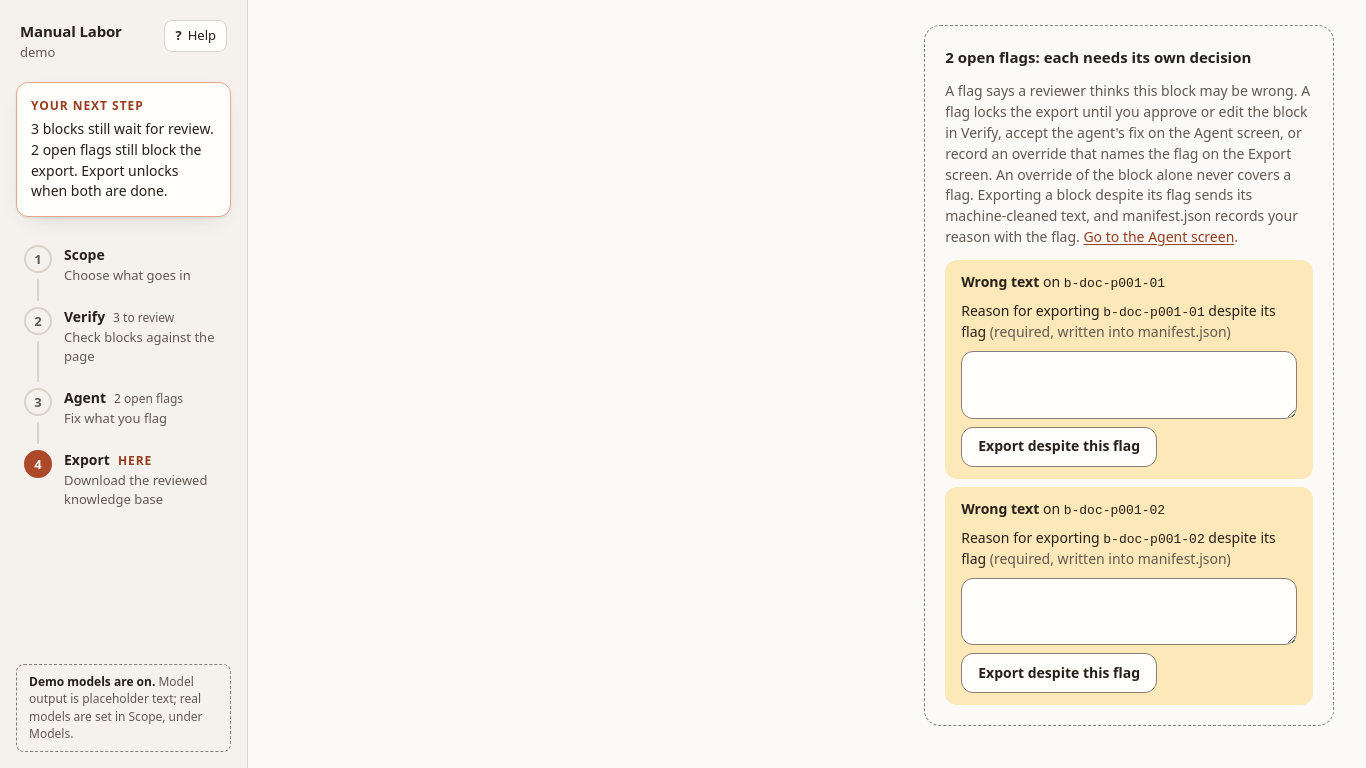
Test: L1 Export: focus stays with the reader, and results are announced › after 'Export despite' succeeds, focus goes to the next flag's reason; after the last flag, to the locked heading
(page scrolled)
Type "checked on paper" into the text box labelled "Reason for exporting b-doc-p001-01 despite its flag" at (1129, 385), box [961, 351, 1297, 418]
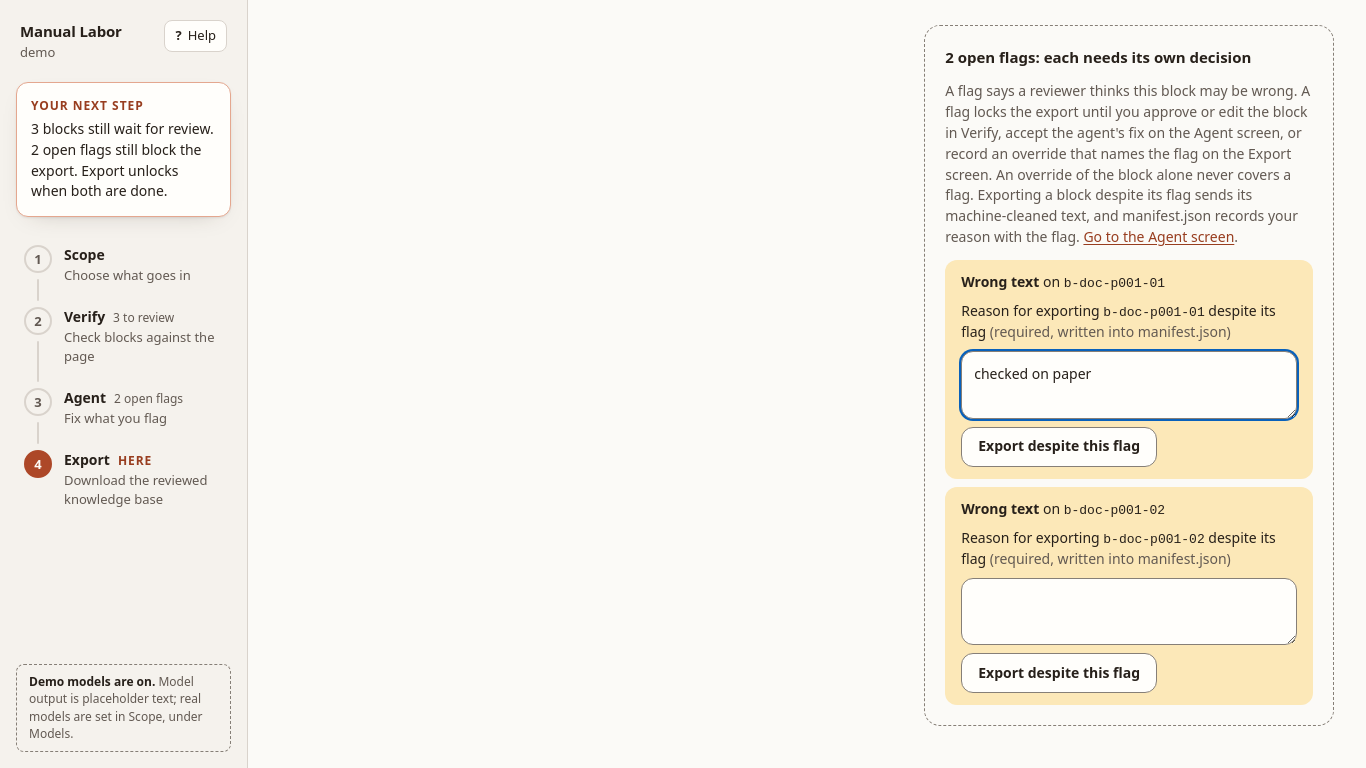
Click the button with aria-label "Export b-doc-p001-01 despite its flag" at (1059, 446), box [961, 426, 1157, 466]
(page scrolled)
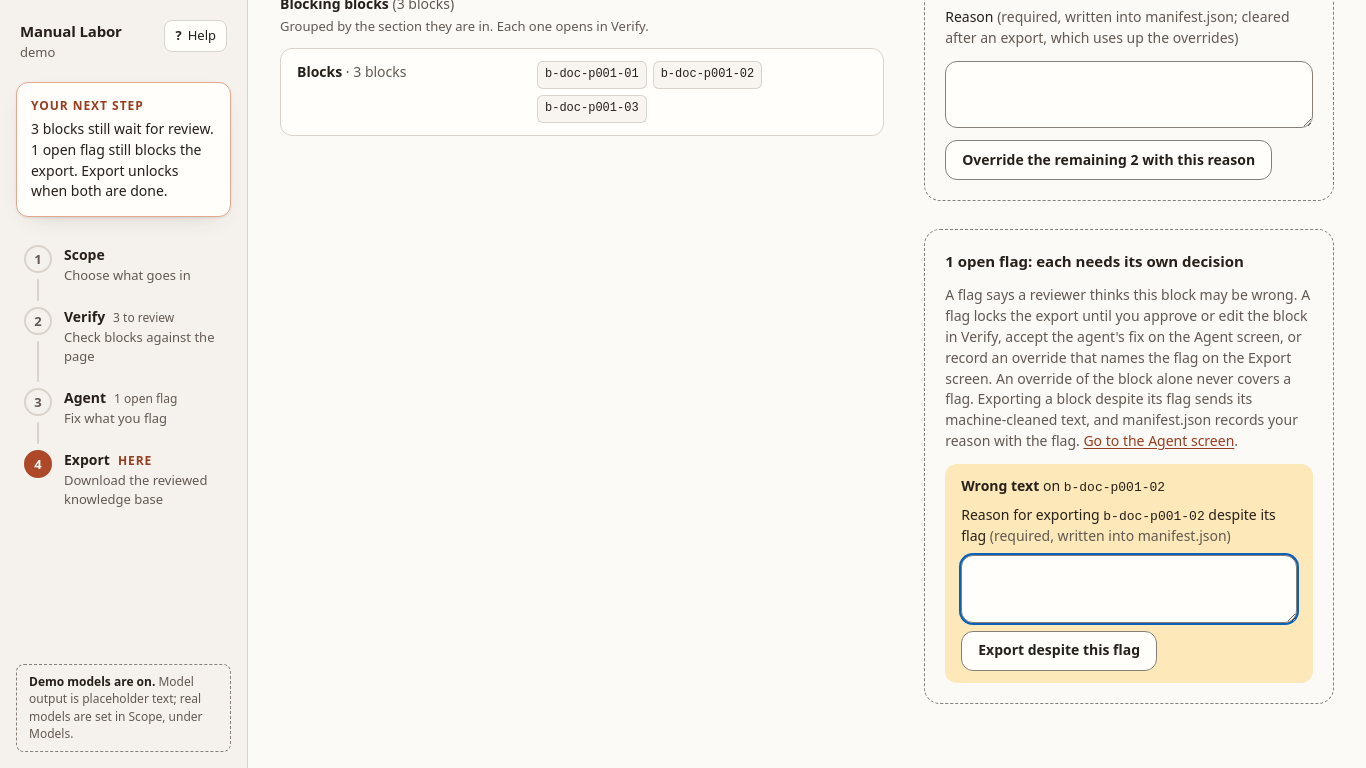
Type "also checked" into the text box labelled "Reason for exporting b-doc-p001-02 despite its flag" at (1129, 589), box [961, 555, 1297, 622]
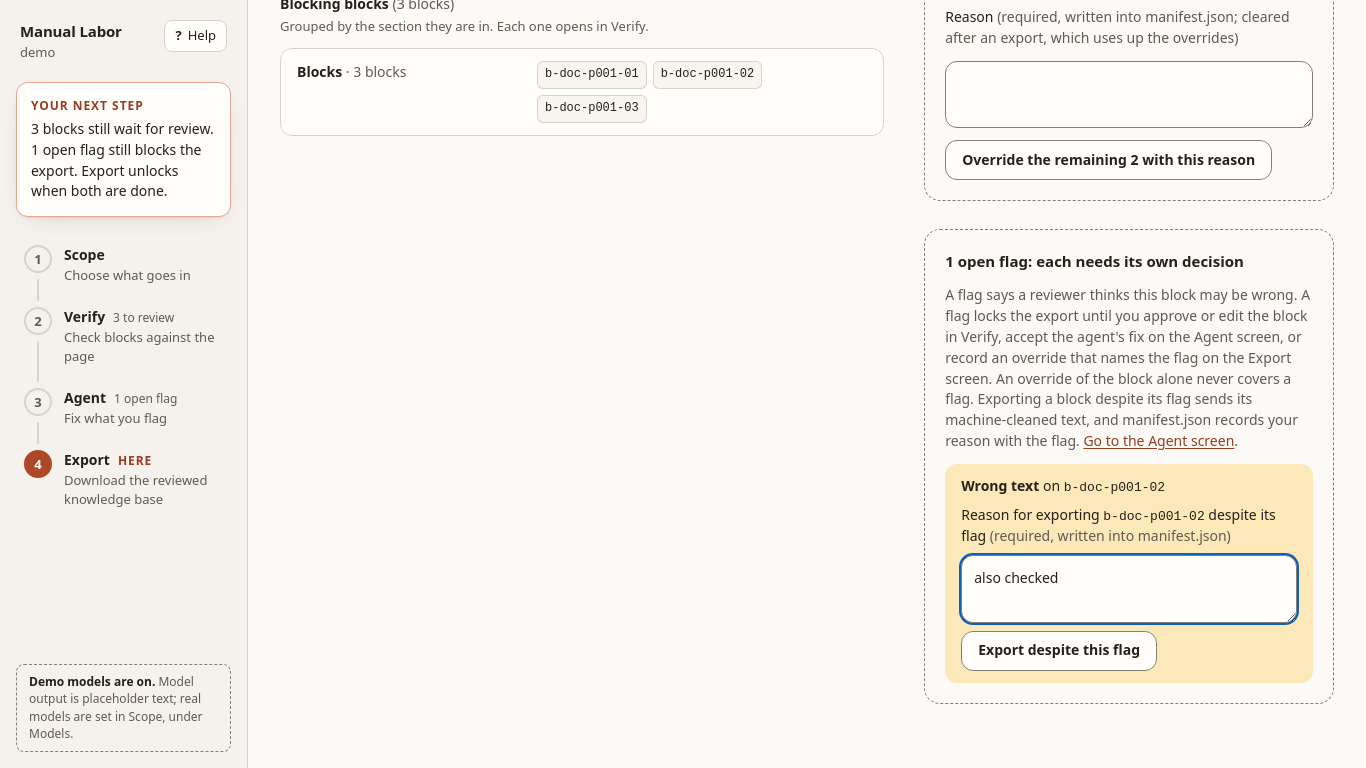
Click the button with aria-label "Export b-doc-p001-02 despite its flag" at (1059, 650), box [961, 630, 1157, 670]
(page scrolled)
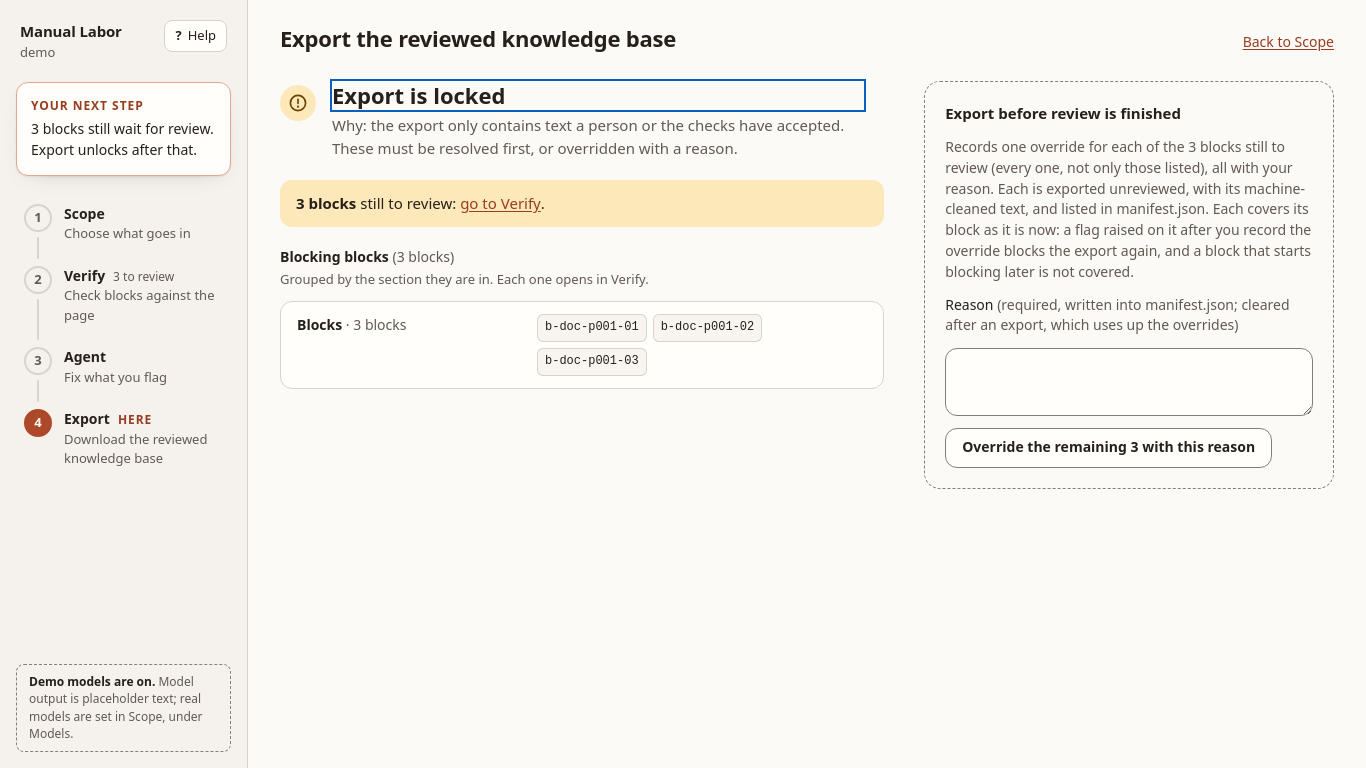
Expected: the element with test id "flag-overrides" is gone
